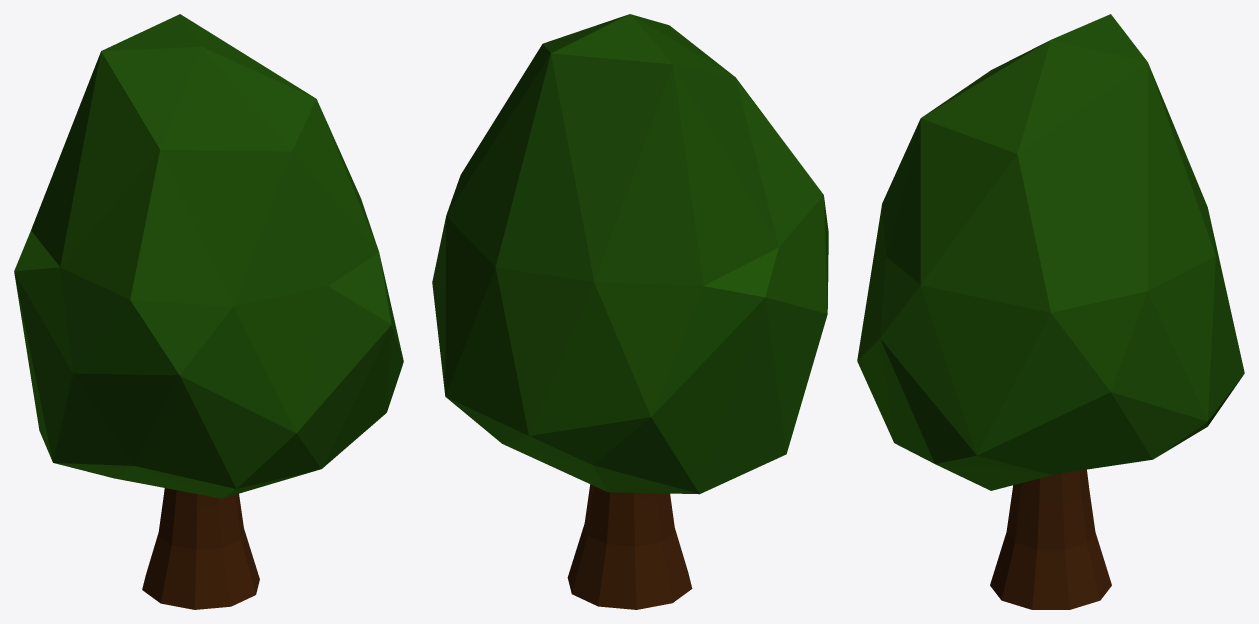
File: tree3.fbx
3 renders of one model, left to right at view 1: azimuth 30°, elevation 25°; view 2: azimuth 150°, elevation 25°; view 3: azimuth 270°, elevation 25°, orthographic. The views are drawn at different scales.
Visible parts, largest first — view 1: Icosphere; view 2: Icosphere; view 3: Icosphere.
Part boxes in pixels (x1,y1,x2,y2): Icosphere: [14, 14, 403, 609]; Icosphere: [432, 14, 828, 609]; Icosphere: [857, 14, 1244, 609].
Size of the model in its own units: 853 by 1355 by 873.
